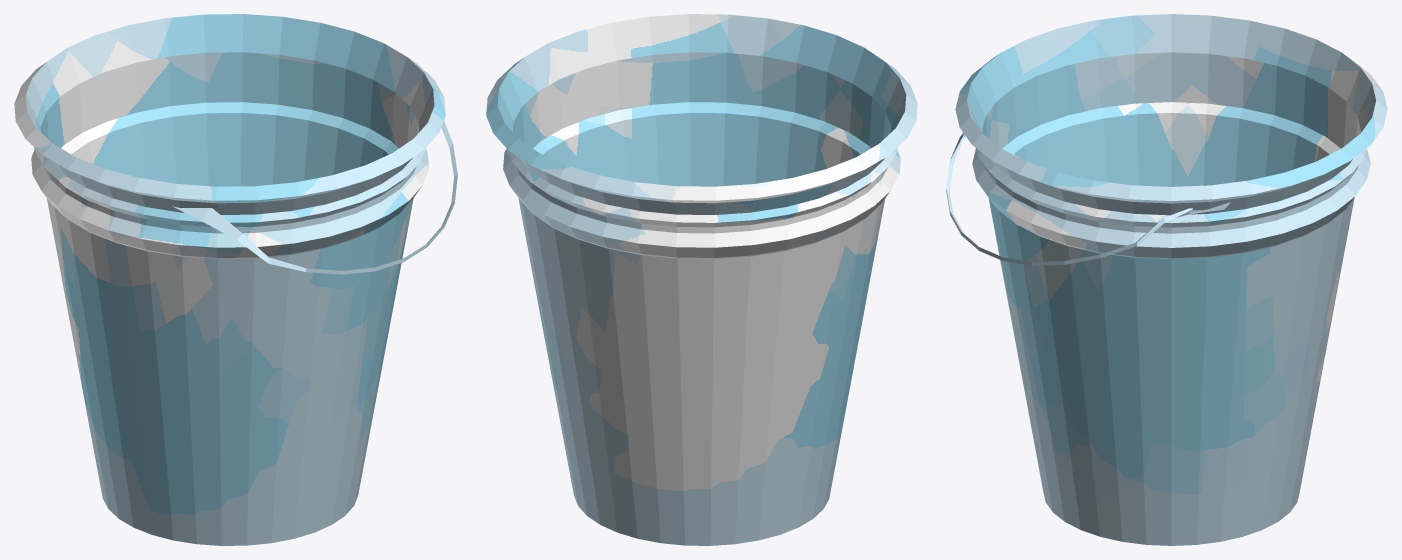
The model's file is vedro.fbx.
The picture shows the model from 3 angles, left to right: view 1: azimuth 30°, elevation 25°; view 2: azimuth 150°, elevation 25°; view 3: azimuth 270°, elevation 25°; orthographic projection.
Parts seen in each view (by area): view 1: Circle.002; view 2: Circle.002; view 3: Circle.002.
Boxes of the visible parts, x1,y1,x2,y2 form: Circle.002: (14, 14, 457, 545); Circle.002: (486, 14, 917, 545); Circle.002: (946, 14, 1387, 545).
Bounding box in the file's own units: 338 × 331 × 339.
1 material, 1 textured.
